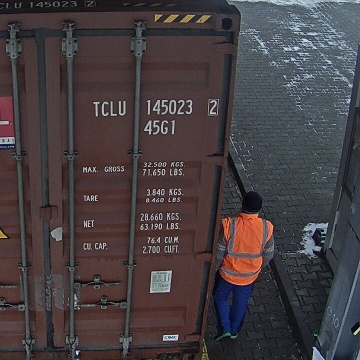serial_id: (93, 99, 217, 116)
